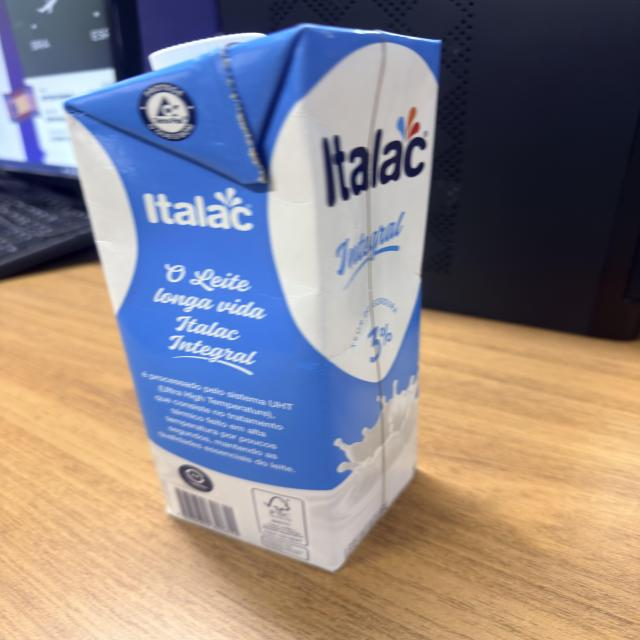Caixa de Leite: (65, 24, 435, 570)
